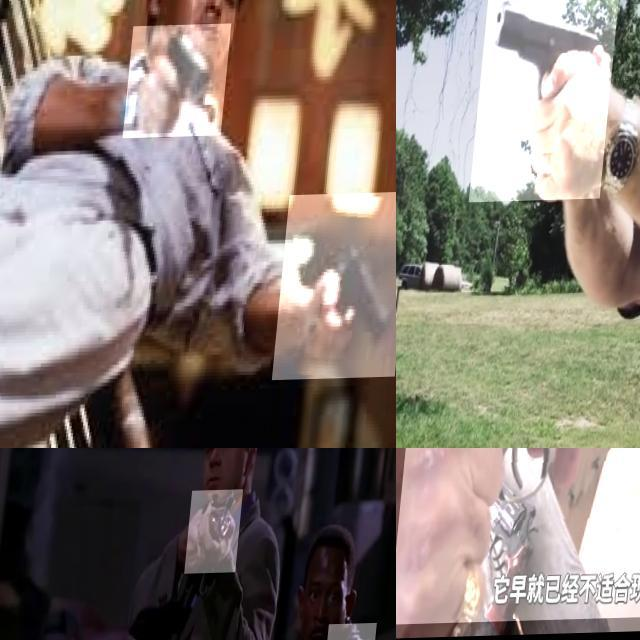gun-knife-thesis - v11 Yolov5 augmented: (401, 448, 640, 638), (476, 0, 623, 203), (282, 194, 396, 382), (128, 25, 235, 140), (190, 492, 247, 576)
